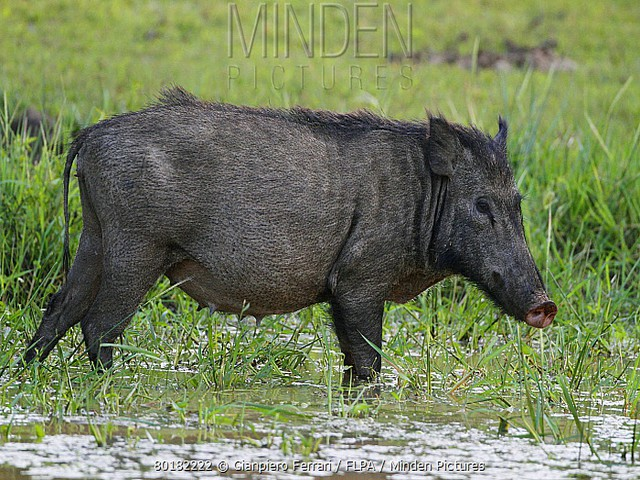Pig: (32, 86, 561, 384)
